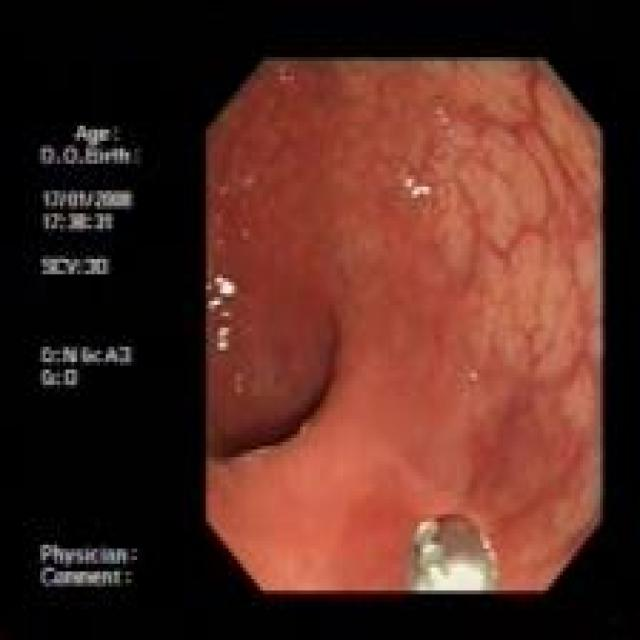color misalignment: (36, 120, 149, 594)
contrast: (209, 396, 340, 457)
instrument: (405, 511, 499, 590)
specularity: (414, 561, 483, 589), (213, 274, 233, 296), (214, 322, 229, 351), (207, 293, 222, 309)
